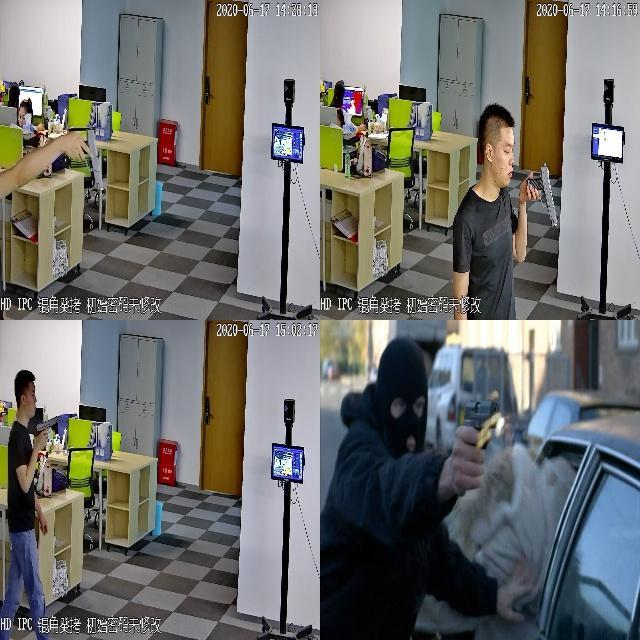gun-knife-thesis - v11 Yolov5 augmented: (449, 387, 500, 486), (64, 127, 103, 191), (523, 158, 557, 226), (33, 413, 58, 449)
